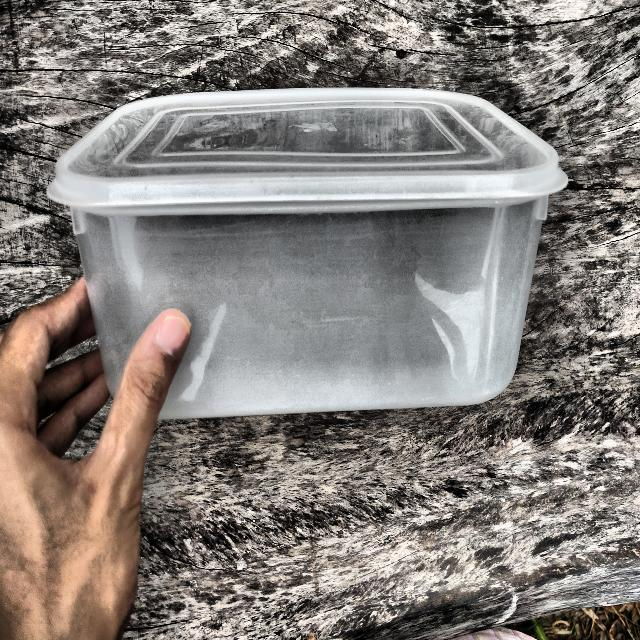plastic container: (61, 84, 552, 442)
